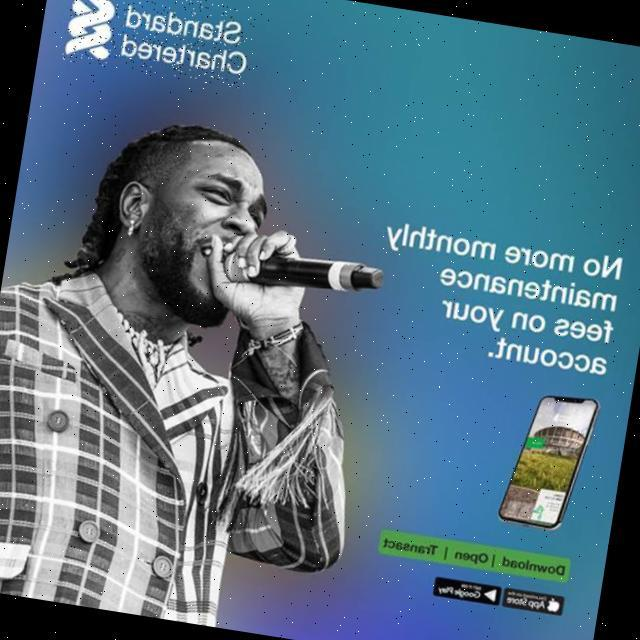Standard Chartered: (61, 0, 256, 89)
